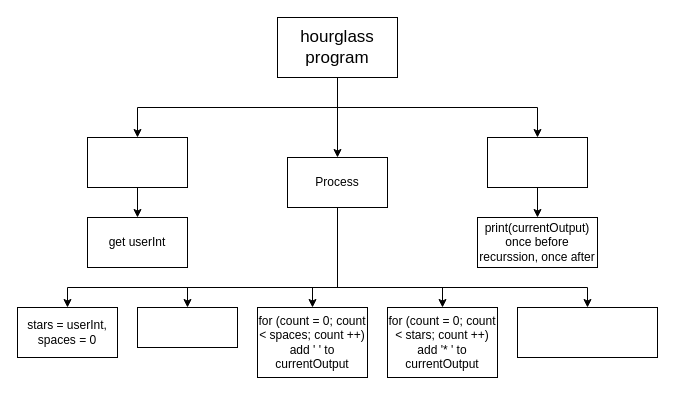
The diagram is 675 pixels wide and 395 high, and some of its shapes have lost their labels. Each missing label, with the centre of its shape:
"currentOutput = ' '" goes at point 187,327.
"Input" goes at point 137,162.
"Output" goes at point 537,162.
"recursion with (stars - 1) and (spaces + 1) as long as spaces !== 0" goes at point 587,332.
